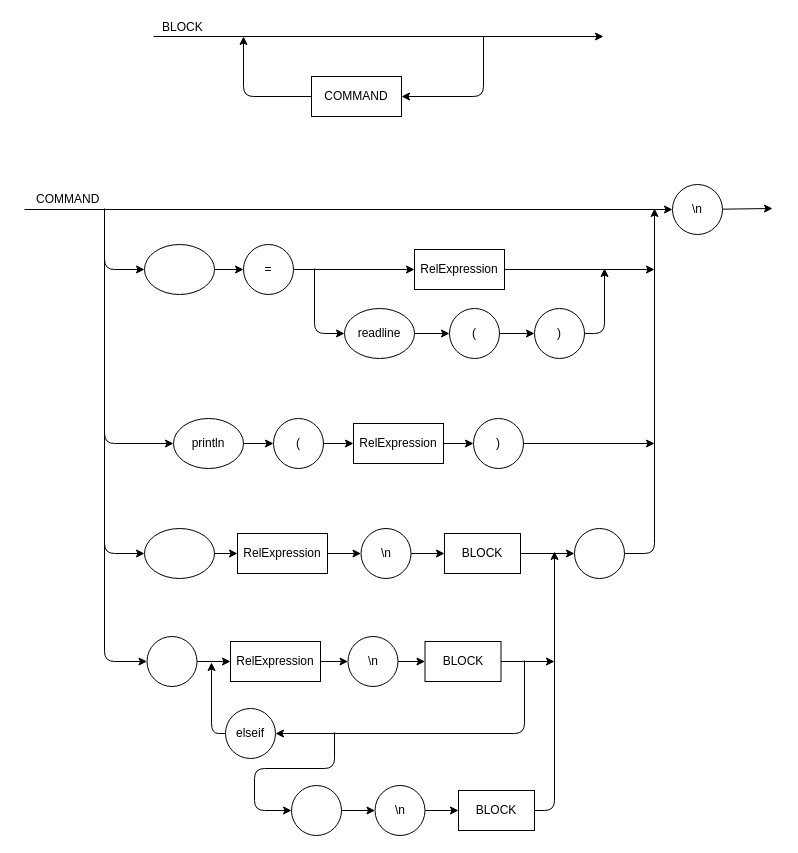
Image size: 798x853. Some labels were removed from this diagram. The box of each missing label's shape, as (x1, y1, x2, y2) in pixels:
else: (290, 784, 342, 836)
end: (574, 528, 624, 578)
Identifier: (144, 244, 214, 294)
if: (146, 636, 197, 686)
while: (144, 528, 214, 578)
